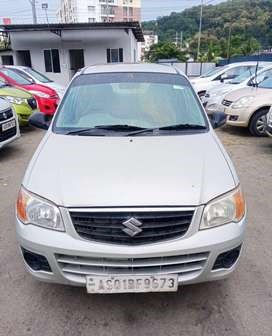AS01BF9673: (86, 274, 177, 293)
